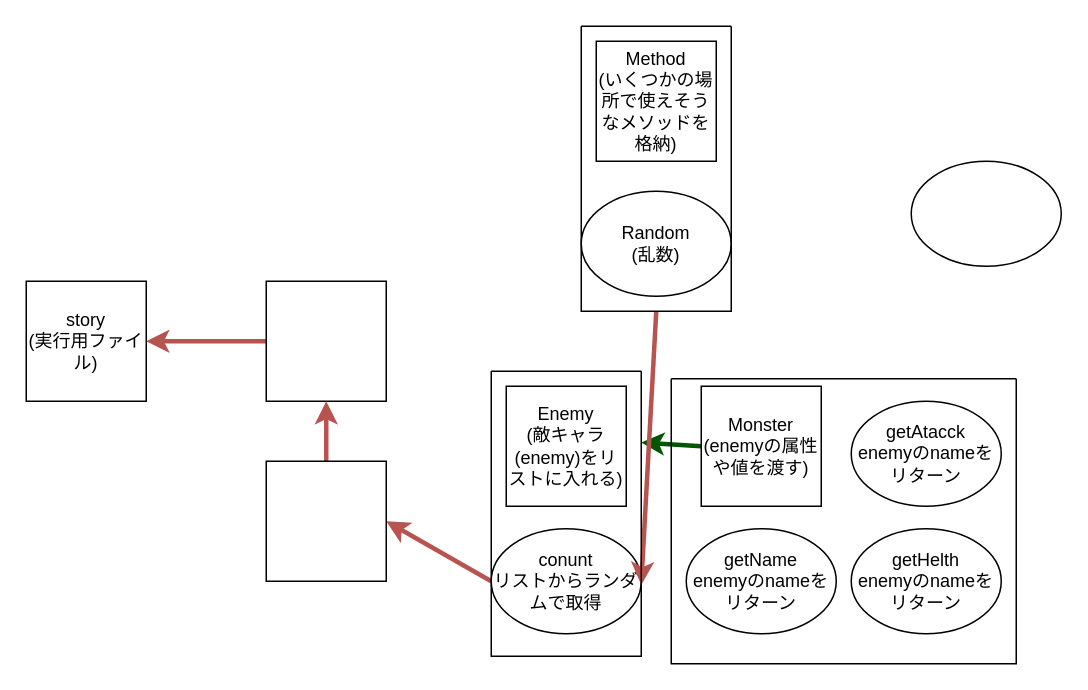
Image size: 1088x690. Some labels were removed from this diagram. Here are the shapes that lost their labels. From the top down, the box of each, then its label:
(265, 280, 386, 401): Sarch (storyで探索を選んだ際に動くメソッド)
(265, 460, 386, 581): Battle (相手と接敵した際にcountを使う)
